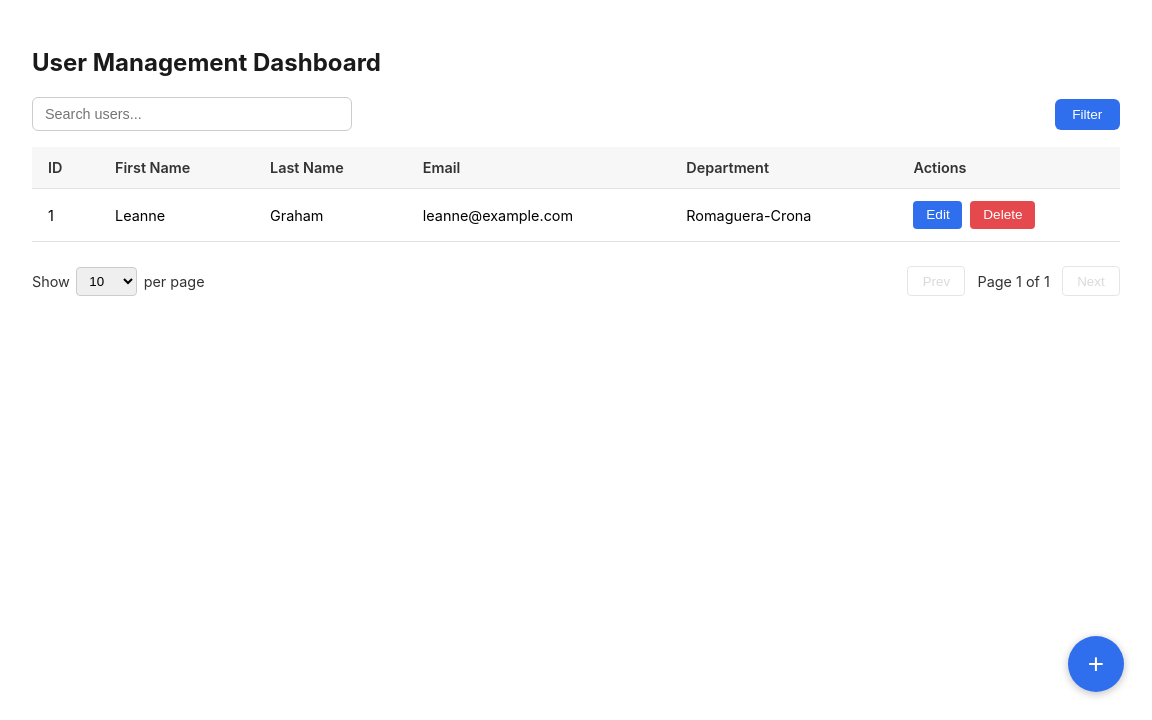
Test: App - Edit user flow › opens the Edit modal pre-filled with the selected user's data
Click the button with aria-label "Edit Leanne Graham" at (938, 215), box [914,201,962,229]
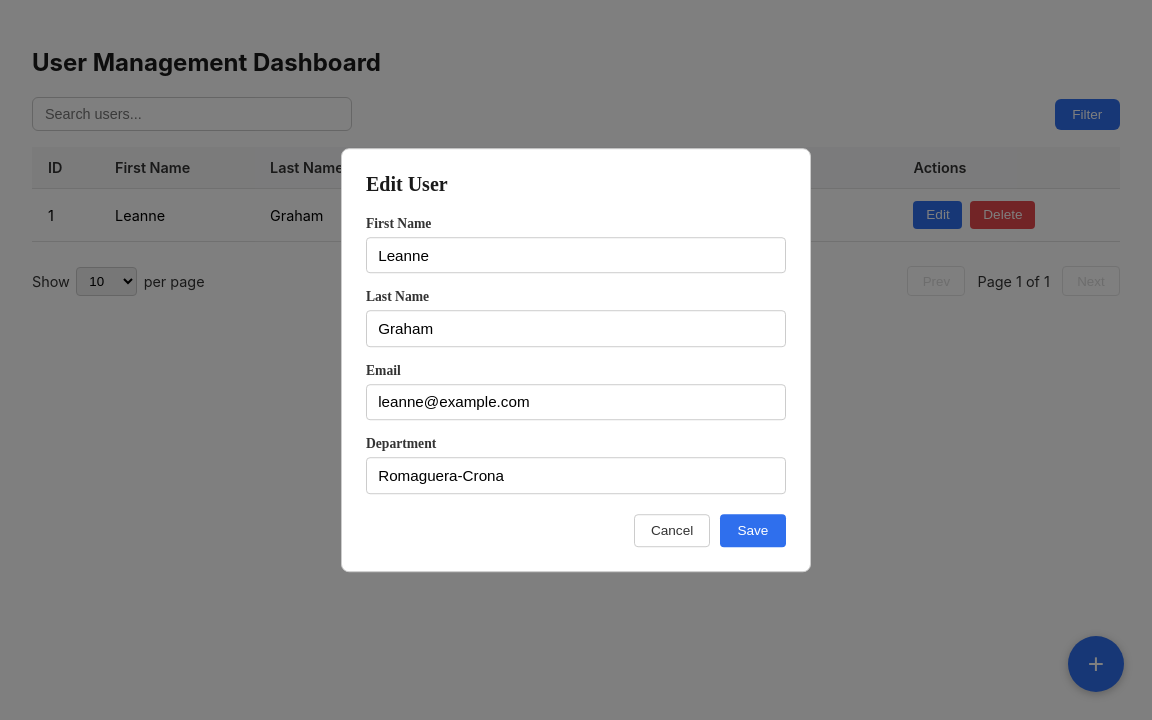
Expected: the heading "Edit User" is shown, [366,173,448,195]
Expected: the field labelled "First Name" holds "Leanne", [366,237,786,274]
